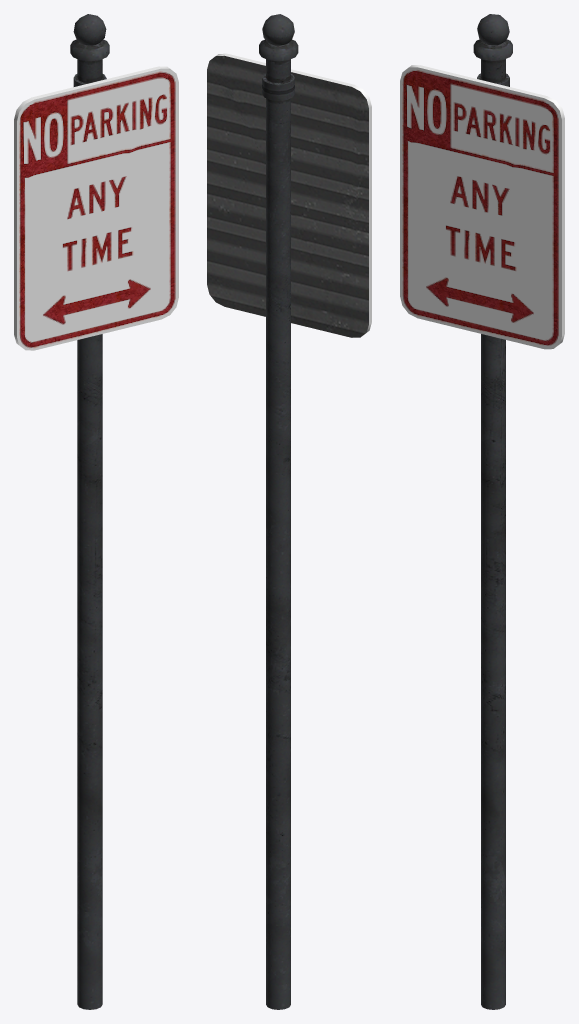
Rendered from Road_Sign_03.fbx.
The picture shows the model from 3 angles, left to right: view 1: azimuth 30°, elevation 25°; view 2: azimuth 150°, elevation 25°; view 3: azimuth 330°, elevation 25°; orthographic projection.
Parts seen in each view (by area): view 1: Road_Sign_03_LOD0; view 2: Road_Sign_03_LOD0; view 3: Road_Sign_03_LOD0.
Boxes of the visible parts, left/top/right/bottom form: Road_Sign_03_LOD0: left=14, top=14, right=178, bottom=1009; Road_Sign_03_LOD0: left=207, top=14, right=371, bottom=1009; Road_Sign_03_LOD0: left=400, top=14, right=564, bottom=1009.
Size of what is drawn, in the model's own units: 37.21 by 217 by 7.94.
